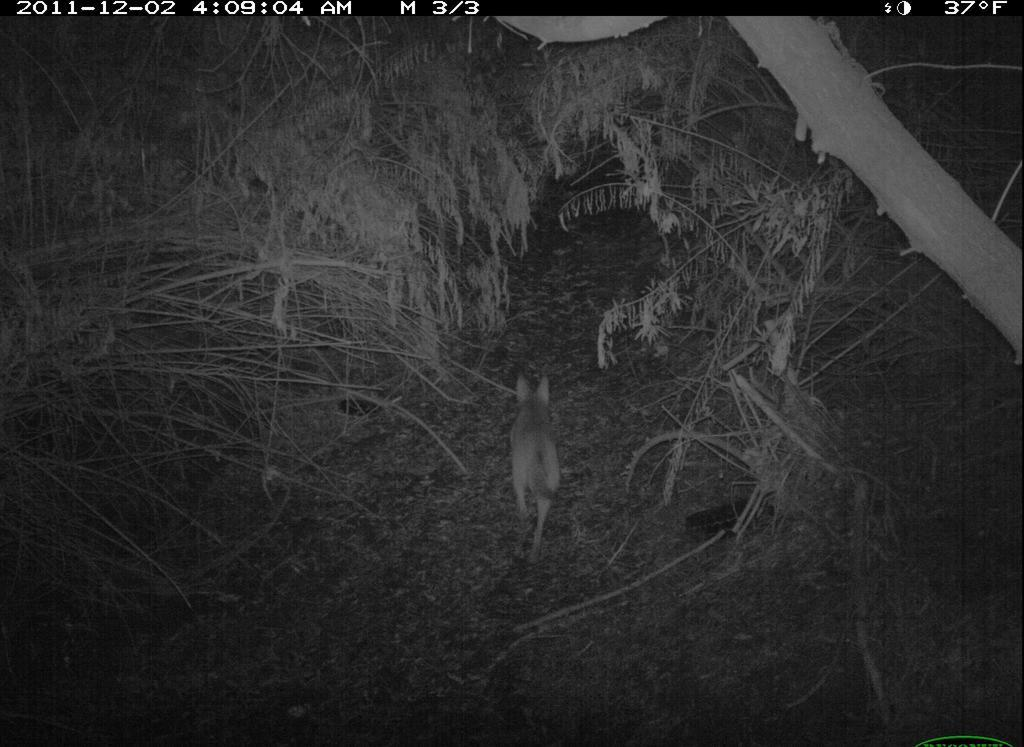coyote: (493, 351, 578, 583)
